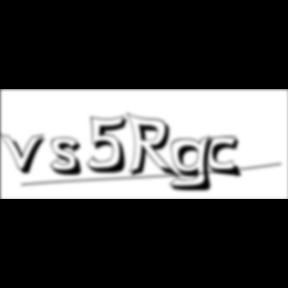5: (86, 114, 134, 176)
R: (126, 112, 184, 182)
c: (206, 136, 246, 180)
g: (169, 134, 221, 194)
s: (50, 137, 90, 179)
v: (0, 131, 52, 177)
